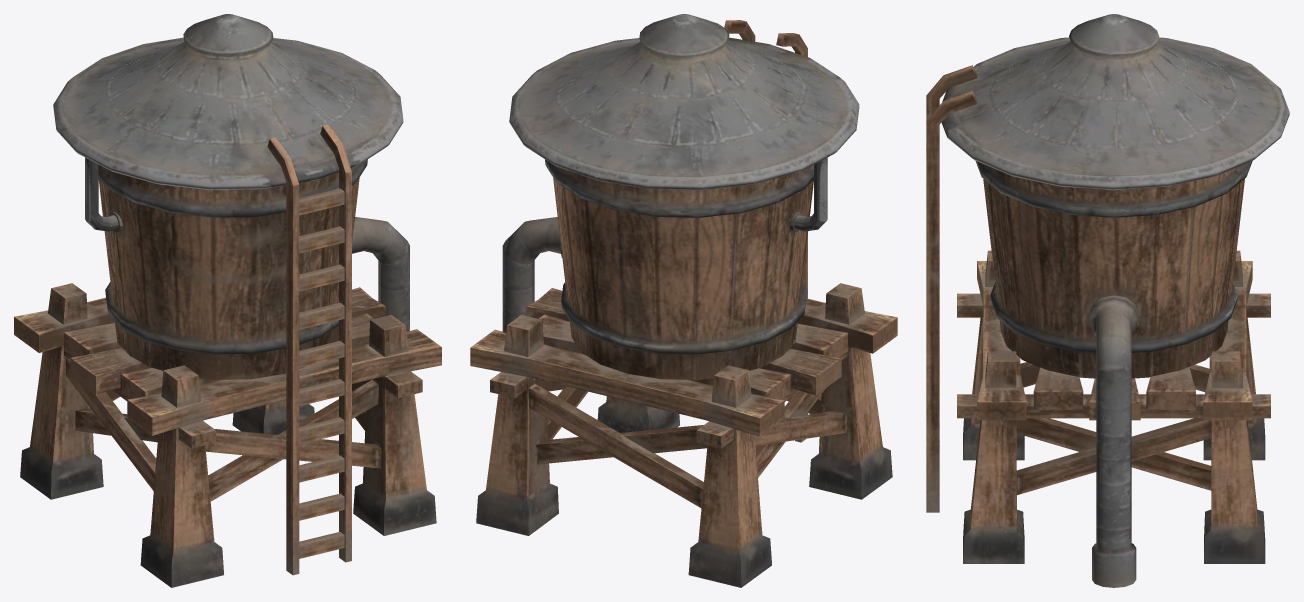
Rendered from water-tower.zfix-v1.lod0.glb.
3 views of the same model, side by side, from view 1: azimuth 30°, elevation 25°; view 2: azimuth 150°, elevation 25°; view 3: azimuth 270°, elevation 25° (orthographic).
Parts seen in each view (by area): view 1: defaultMaterial (×2); view 2: defaultMaterial (×2); view 3: defaultMaterial (×2).
Boxes of the visible parts, box(x1,y1,x2,y2) form: defaultMaterial (×2): box(14, 14, 441, 587); defaultMaterial (×2): box(470, 14, 897, 587); defaultMaterial (×2): box(926, 14, 1289, 587).
Size of the model in its own units: 5.09 by 7 by 4.79.
2 materials, 2 textured.
